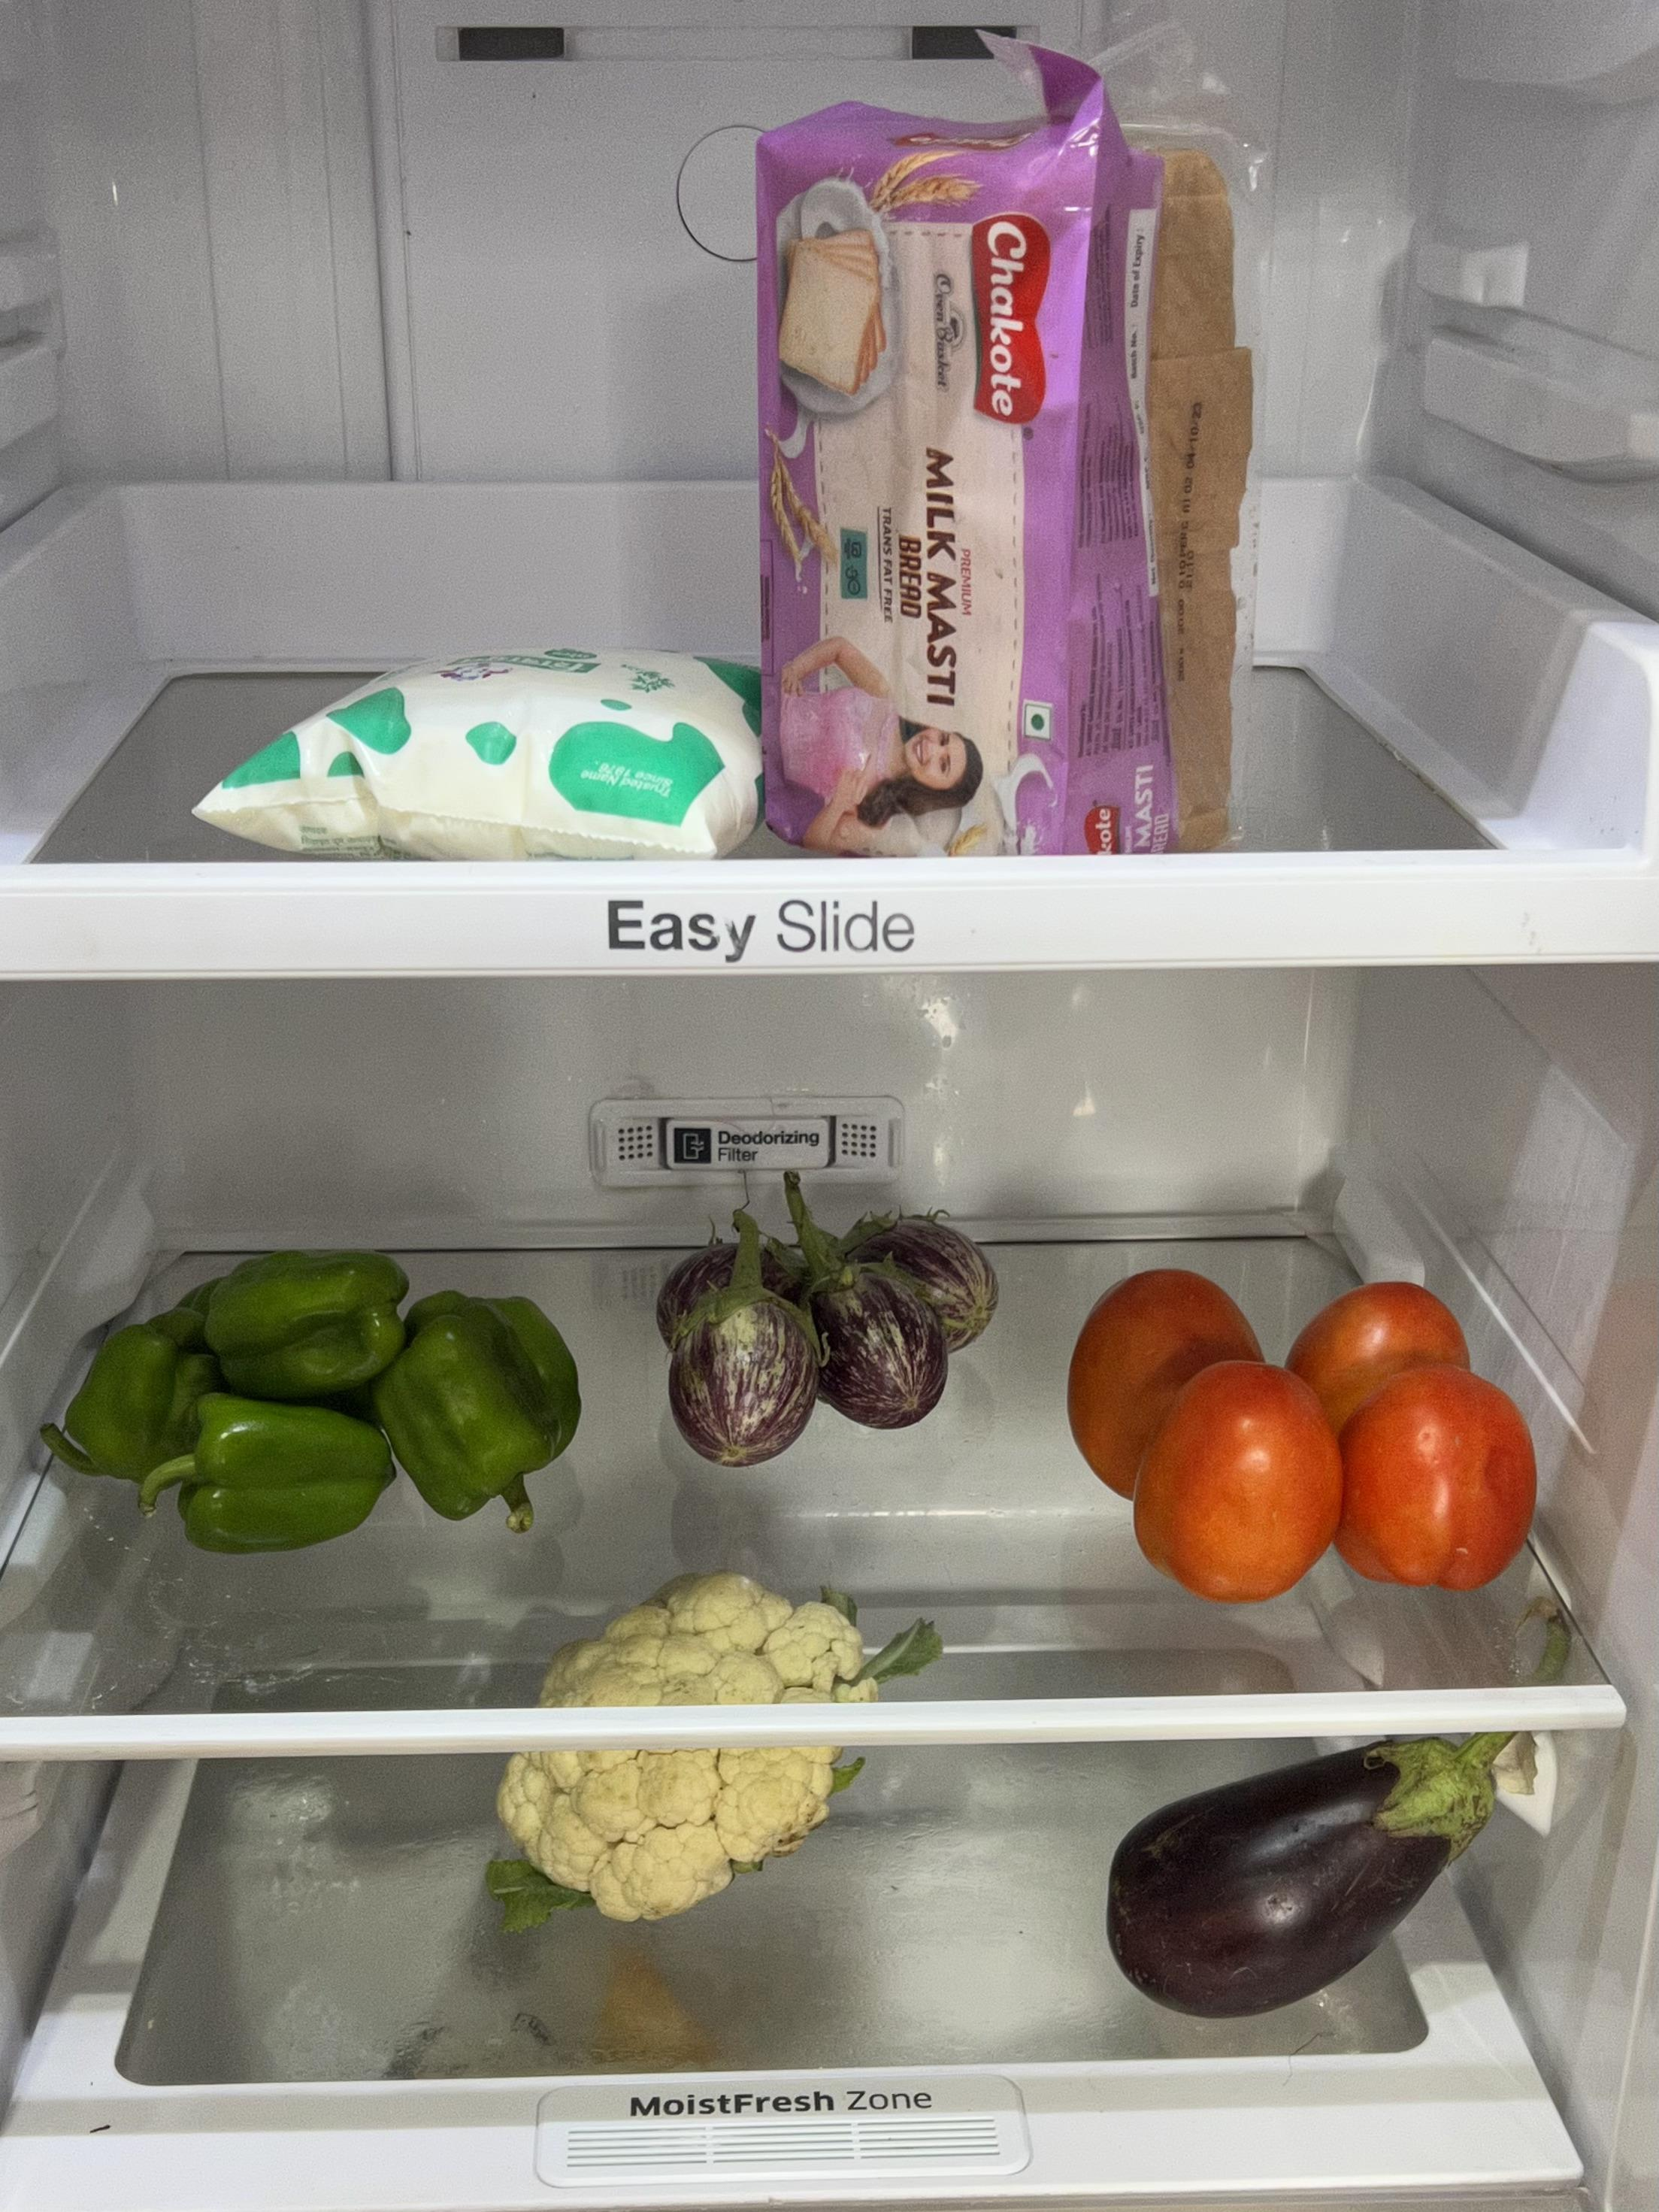bread: (756, 120, 1251, 859)
bringal: (1101, 1738, 1509, 2012), (652, 1215, 999, 1468)
capsicum: (42, 1238, 580, 1546)
cauliflower: (474, 1578, 896, 1912)
milk: (192, 652, 772, 863)
tomato: (1068, 1257, 1542, 1612)
